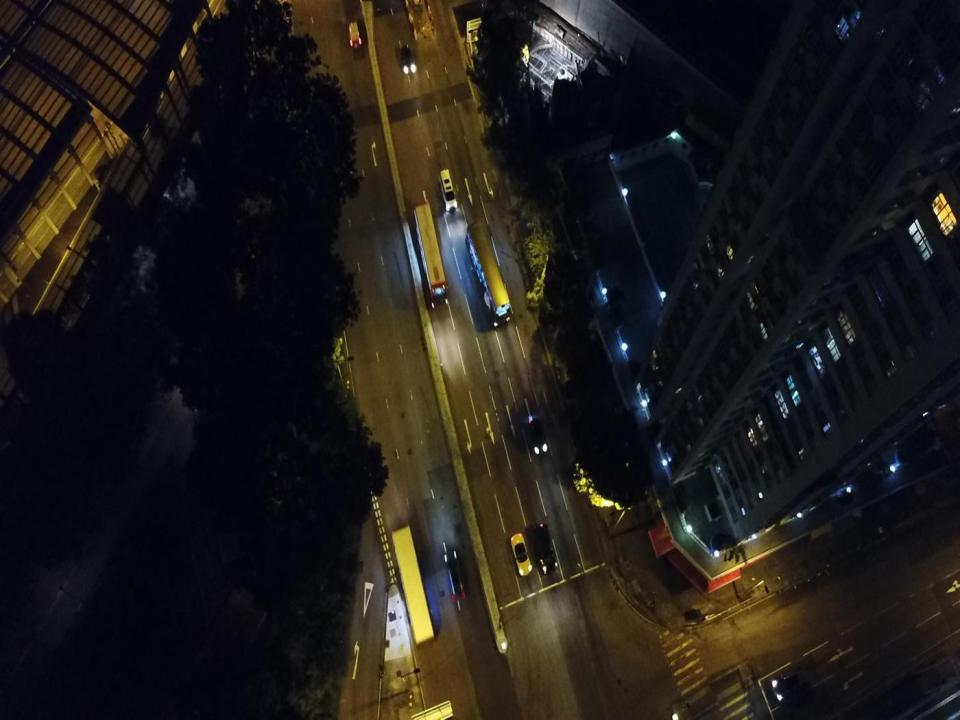bus: (464, 219, 510, 327), (413, 203, 448, 305)
car: (771, 666, 812, 702), (532, 522, 558, 576), (442, 549, 466, 602), (509, 532, 533, 576), (438, 168, 458, 212), (527, 418, 548, 456), (346, 14, 362, 48), (400, 44, 414, 69)
truck: (391, 524, 435, 647)
